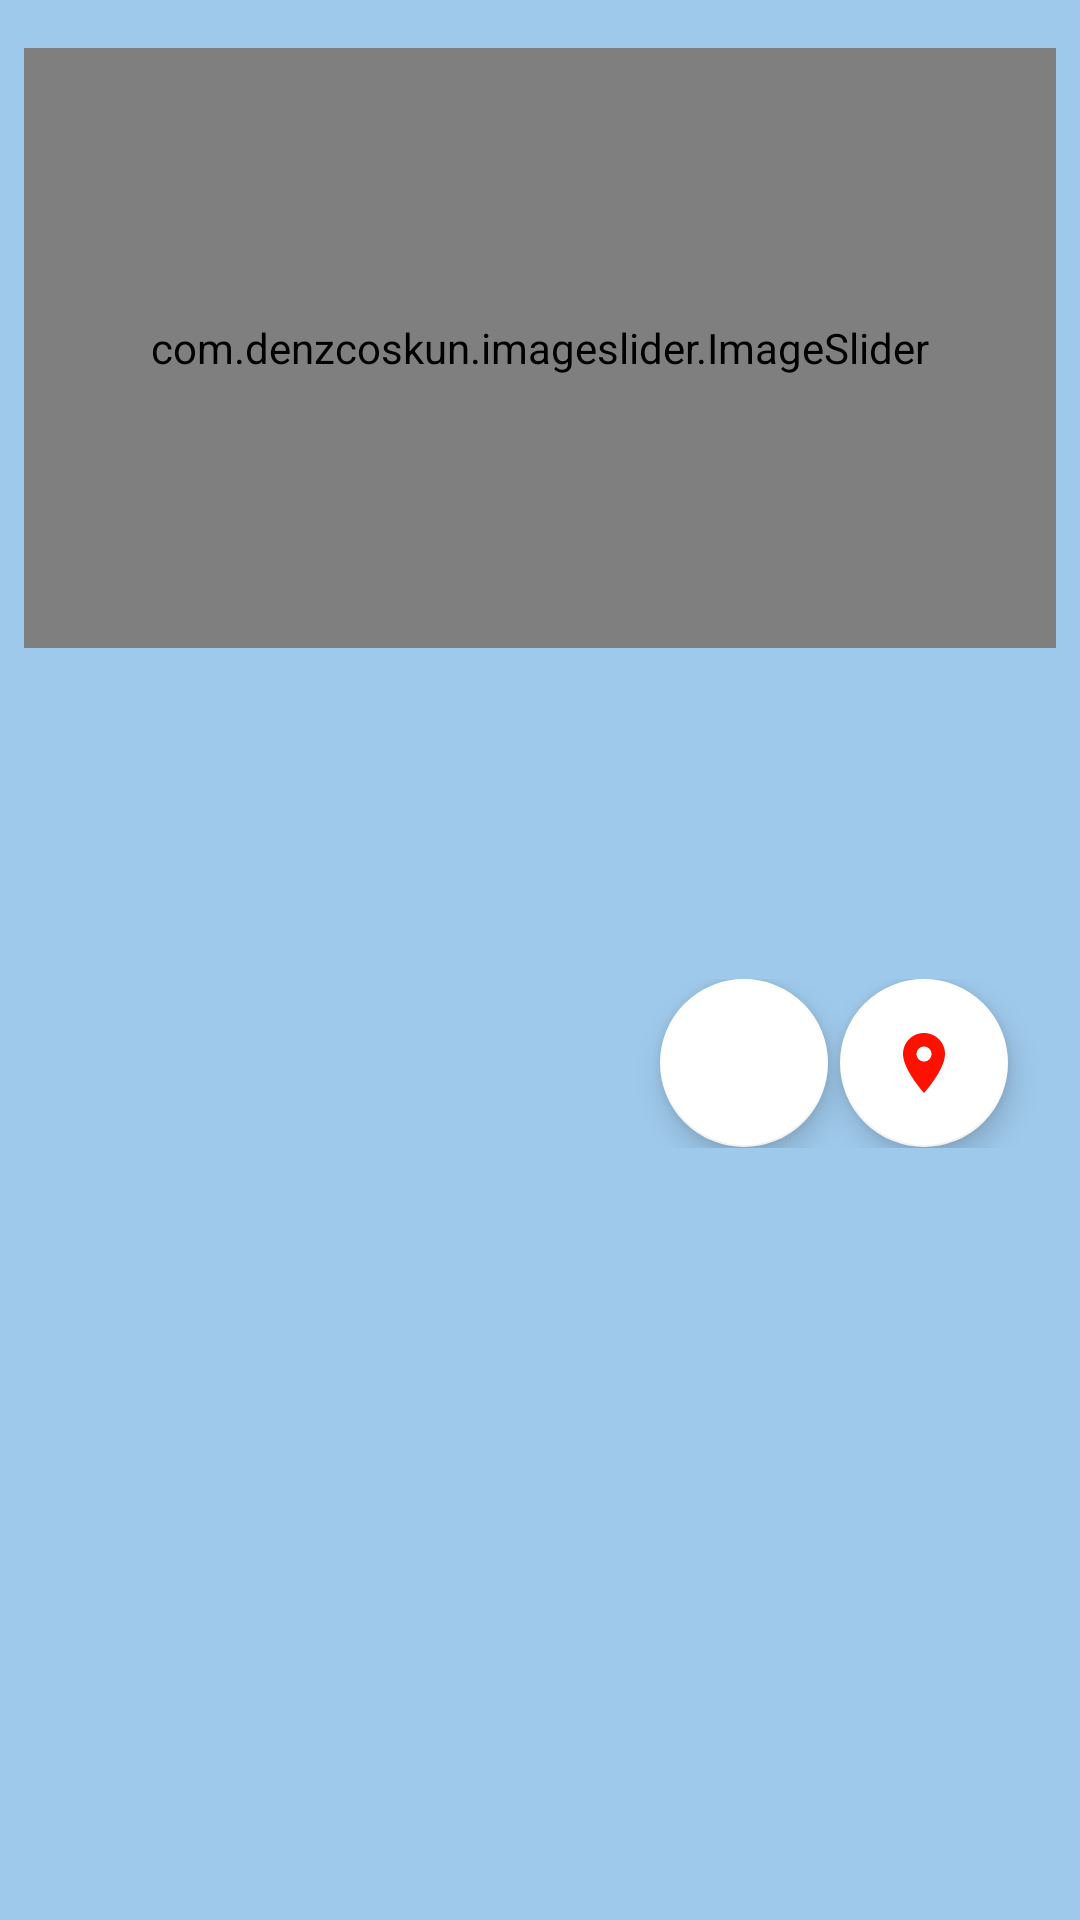

Point at icon controls on the screen. Image size 1080 x 1920, points as point (x, y).
location on: point (924, 1063)
